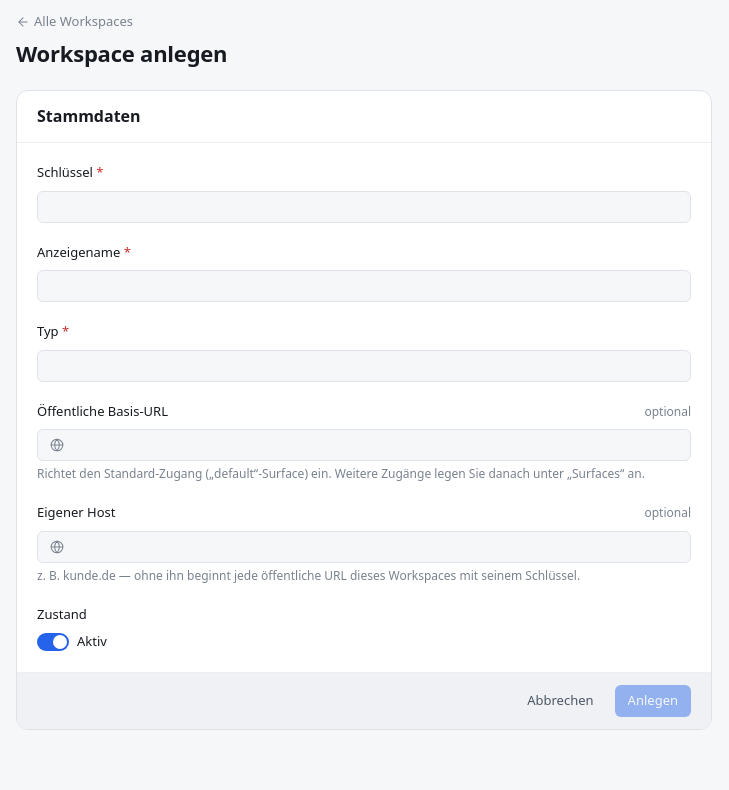
Test: WorkspaceDetailView › aborts save when a before-save hook cancels
Type "acme" into the field named "workspaceKey" at (364, 207), box [50,192,678,222]
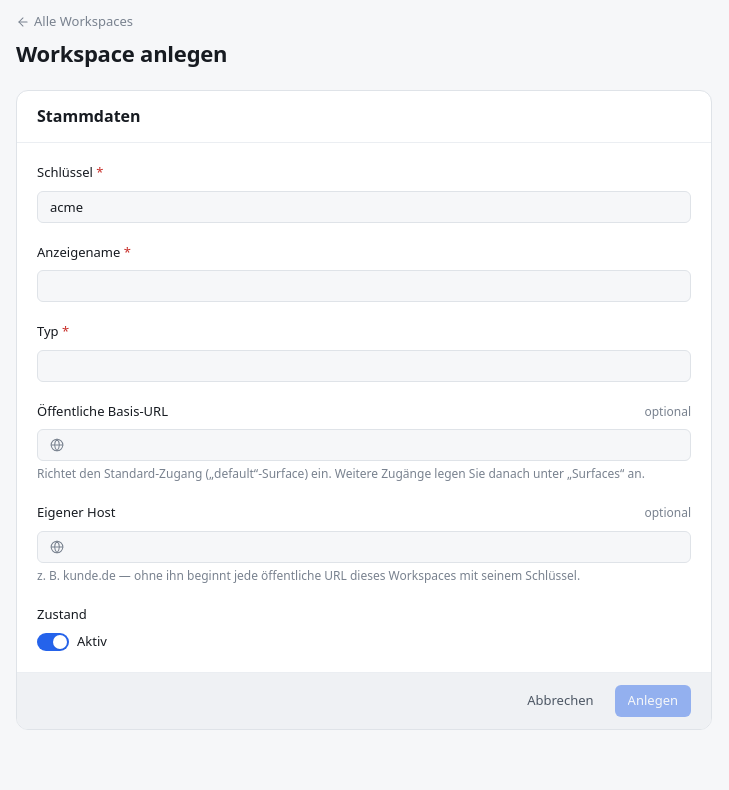
Type "Acme" into the field named "displayName" at (364, 286), box [50,271,678,301]
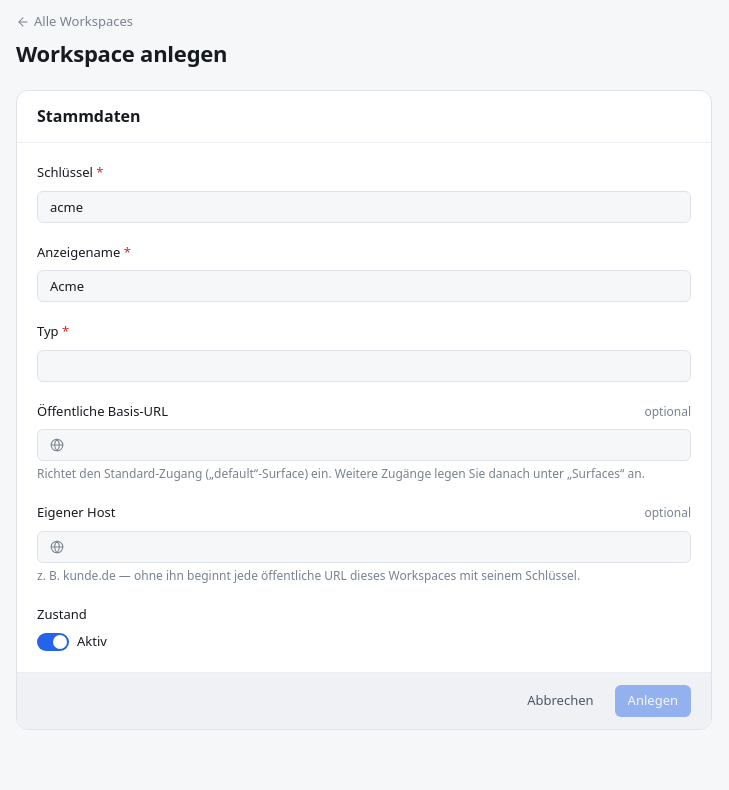
Type "standard" into the field named "workspaceType" at (364, 366), box [50,351,678,381]
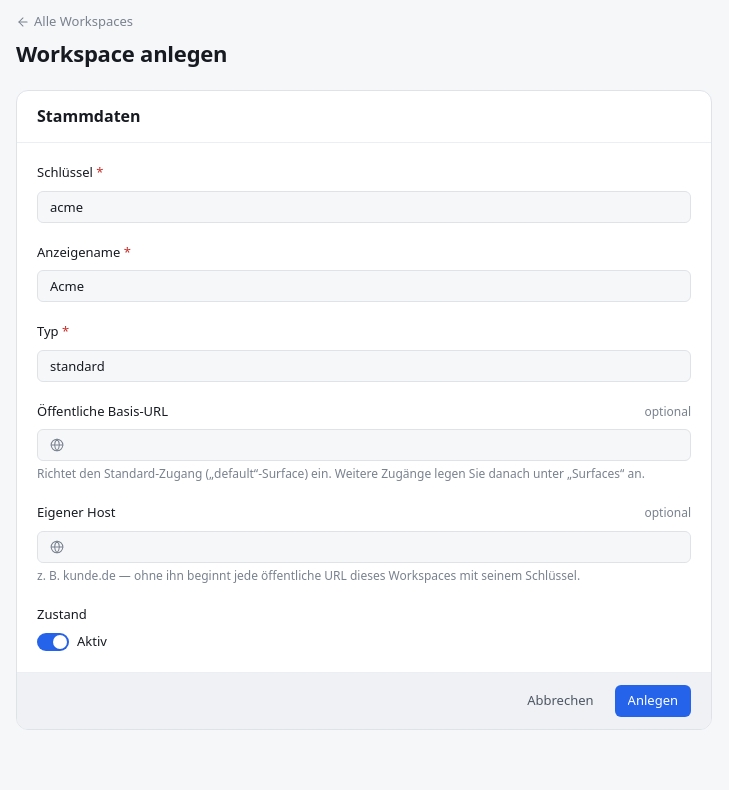
Submit the form
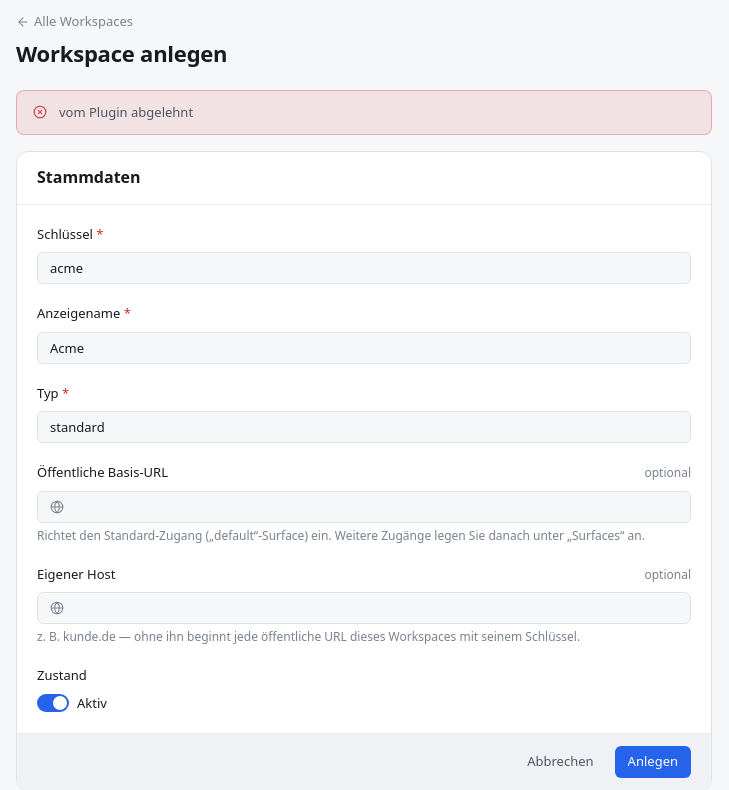
Result: the text "vom Plugin abgelehnt" is shown at [59,103,193,121]
